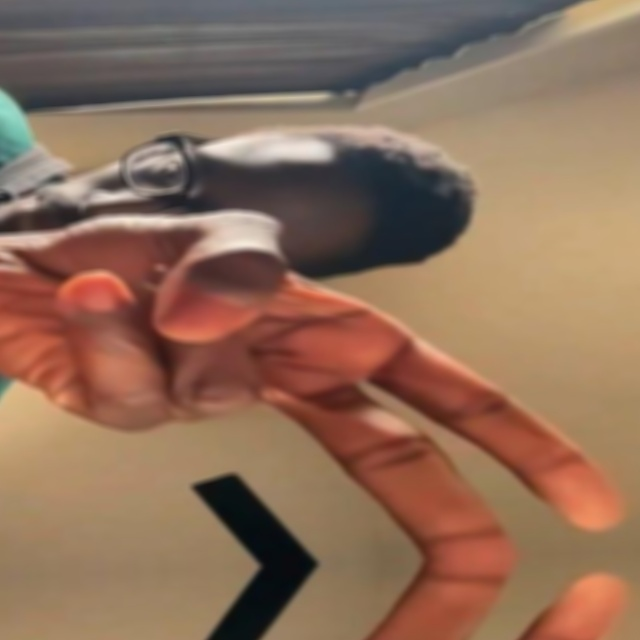Scissors: (0, 195, 630, 581)
